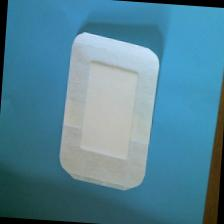Dressing: (56, 28, 164, 195)
